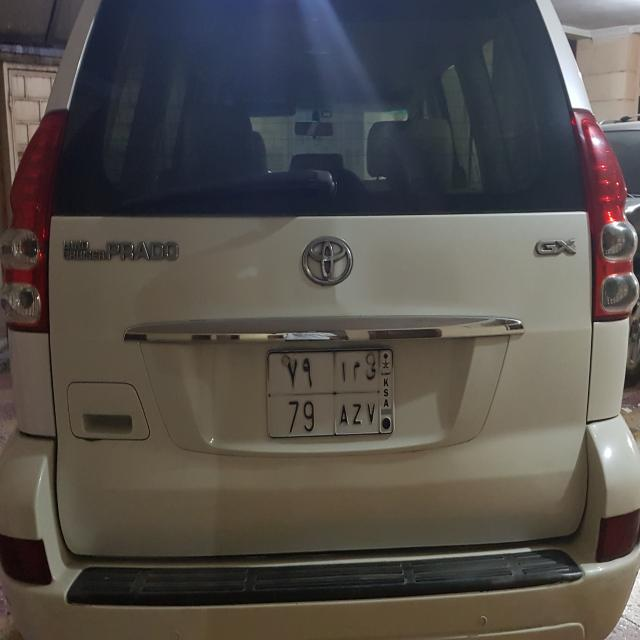license_plate: (264, 347, 398, 442)
